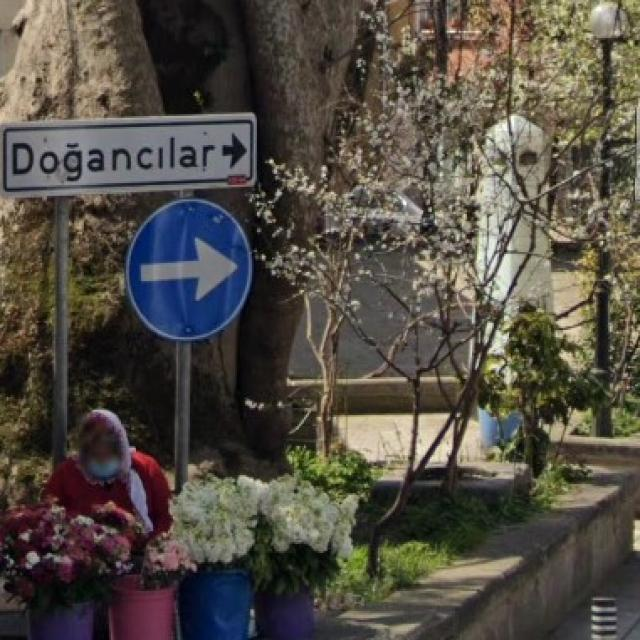Turn Right: (126, 207, 259, 337)
